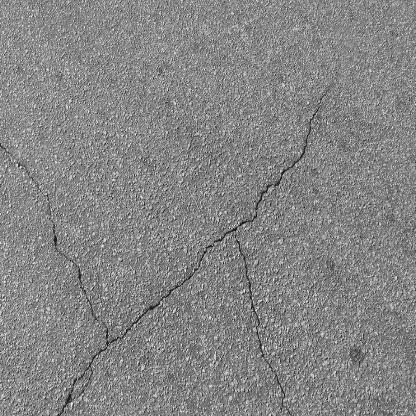Cracks: (0, 90, 331, 416)
